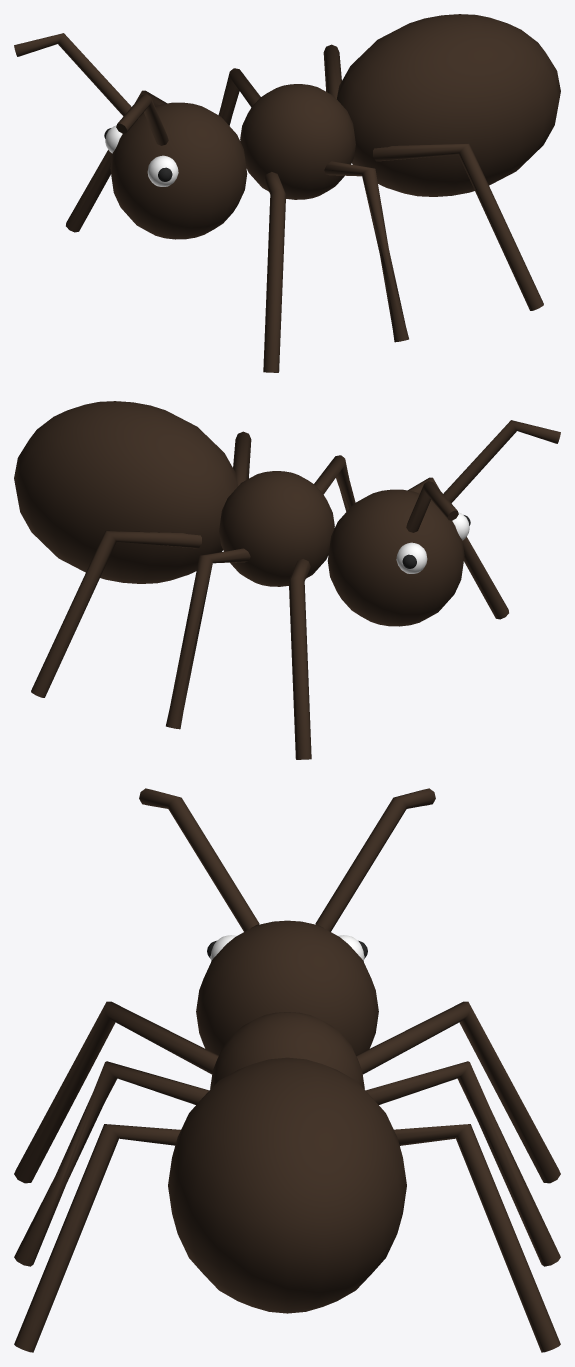
The model's file is ant.glb.
3 views of the same model, one above another, from view 1: azimuth 30°, elevation 25°; view 2: azimuth 150°, elevation 25°; view 3: azimuth 270°, elevation 25° (orthographic). The views are drawn at different scales.
Parts seen in each view (by area): view 1: ant; view 2: ant; view 3: ant.
Part boxes in pixels (x1,y1,x2,y2): ant: (14, 14, 560, 372); ant: (14, 401, 560, 759); ant: (14, 788, 560, 1352).
Size of the model in its own units: 2.12 by 1.07 by 1.56.
